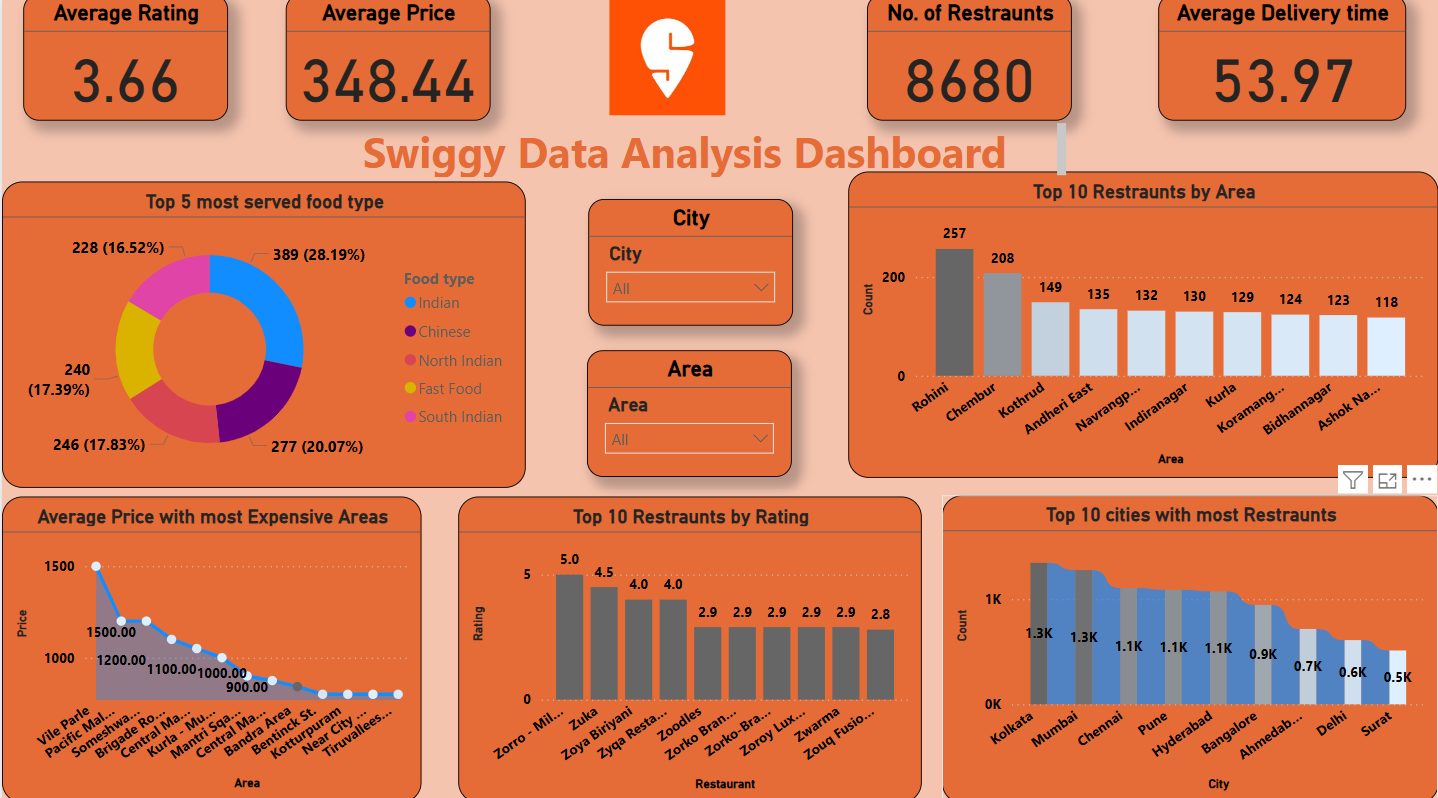

The dashboard page shown, as its layout file describes it:
{"tool":"powerbi","page":{"name":"Page 1","canvas":[1280,720],"ordinal":0},"visuals":[{"type":"card","title":"Average Rating","fields":{"Values":["Avg(swiggy.Avg ratings)"]},"box":[19.2,0,182.1,112.8],"z":0},{"type":"card","title":"Average Price","fields":{"Values":["Avg(swiggy.Price)"]},"box":[252.6,0,182.1,112.8],"z":1000},{"type":"card","title":"No. of Restraunts","fields":{"Values":["Count(swiggy.ID)"]},"box":[770,0,182.5,112.5],"z":2000},{"type":"card","title":"Average Delivery time","fields":{"Values":["Avg(swiggy.Delivery time)"]},"box":[1029.5,0,220.5,112.8],"z":3000},{"type":"columnChart","title":"Top 10 Restraunts by Area","fields":{"Category":["swiggy.Area"],"Y":["Count(swiggy.ID)"]},"box":[753.8,157.7,525.6,273.1],"z":4000},{"type":"donutChart","title":"Top 5 most served food type","fields":{"Category":["swiggy.Food type"],"Y":["Count(swiggy.ID)"]},"box":[0,166.7,466.7,273.1],"z":5000},{"type":"ribbonChart","title":"Top 10 cities with most Restraunts","fields":{"Category":["swiggy.City"],"Y":["Count(swiggy.ID)"]},"box":[837.2,446.2,442.3,274.4],"z":6000},{"type":"stackedAreaChart","title":"Average Price with most Expensive Areas","fields":{"Category":["swiggy.Area"],"Y":["Avg(swiggy.Price)"]},"box":[0,447.5,373.8,272.5],"z":7000},{"type":"slicer","title":"City","fields":{"Values":["swiggy.City"]},"box":[521.8,182.1,182.1,112.8],"z":8000},{"type":"image","box":[494.9,0,194.9,112.8],"z":9000},{"type":"textbox","box":[271.8,110.3,680.8,57.7],"z":10000},{"type":"columnChart","title":"Top 10 Restraunts by Rating","fields":{"Category":["swiggy.Restaurant"],"Y":["Avg(swiggy.Avg ratings)"]},"box":[406.4,447.4,412.8,273.1],"z":11000},{"type":"slicer","title":"Area","fields":{"Values":["swiggy.Area"]},"box":[521.2,317.5,182.5,112.5],"z":12000}]}

Visuals, with their boxes in screenshot pixels (x1, y1, x2, y2), scaled from the page's 1280x720 canvas onto the 1438x798 screenshot:
"Average Rating" card: region(22, 0, 226, 125)
"Average Price" card: region(284, 0, 488, 125)
"No. of Restraunts" card: region(865, 0, 1070, 125)
"Average Delivery time" card: region(1157, 0, 1404, 125)
"Top 10 Restraunts by Area" columnChart: region(847, 175, 1437, 477)
"Top 5 most served food type" donutChart: region(0, 185, 524, 487)
"Top 10 cities with most Restraunts" ribbonChart: region(941, 495, 1437, 797)
"Average Price with most Expensive Areas" stackedAreaChart: region(0, 496, 420, 797)
"City" slicer: region(586, 202, 791, 327)
image: region(556, 0, 775, 125)
textbox: region(305, 122, 1070, 186)
"Top 10 Restraunts by Rating" columnChart: region(457, 496, 920, 797)
"Area" slicer: region(586, 352, 791, 477)
